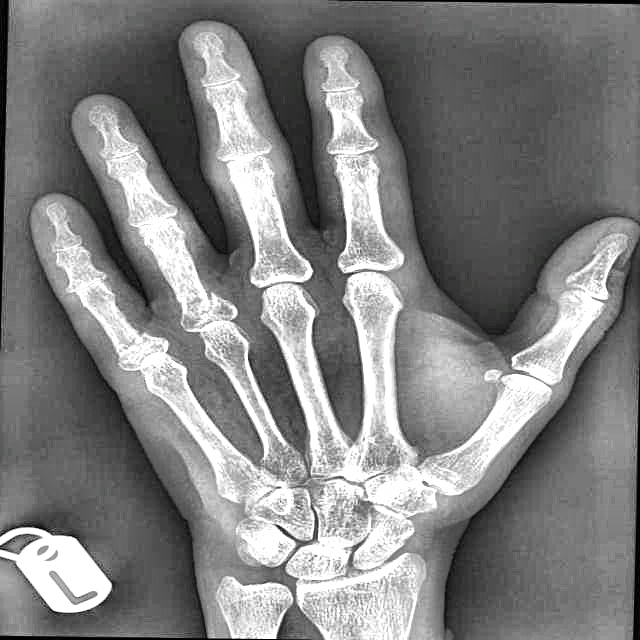Healthy: (45, 30, 610, 586)
